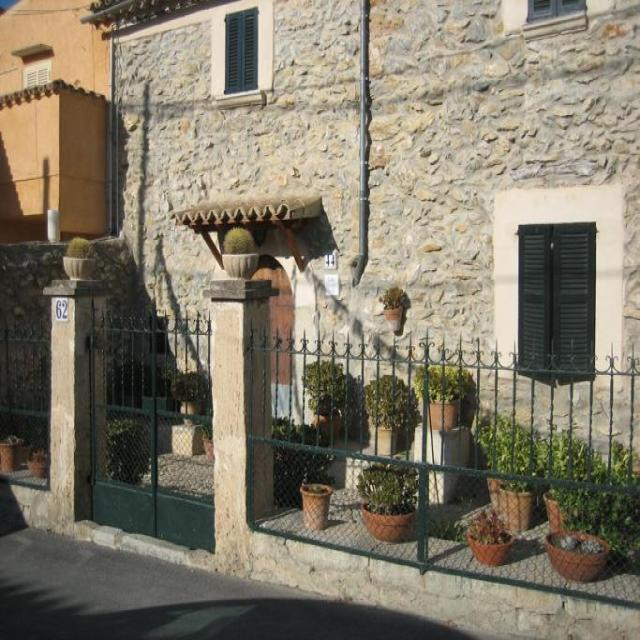curtains: (516, 220, 596, 385)
plant: (219, 226, 259, 279), (62, 235, 97, 280)
plants: (473, 408, 541, 532), (355, 458, 419, 542), (362, 372, 421, 457), (412, 361, 477, 430), (300, 358, 348, 442), (104, 416, 152, 484), (171, 370, 209, 420), (378, 285, 408, 333)
pots: (543, 529, 610, 581), (486, 475, 536, 533), (361, 502, 414, 542), (466, 526, 514, 565), (299, 481, 333, 530), (427, 396, 459, 430), (312, 408, 342, 442), (382, 305, 402, 331)
windows: (223, 6, 259, 95)
